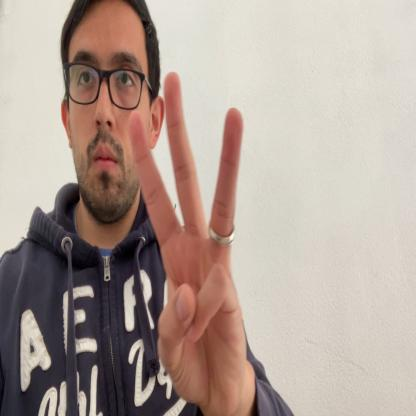W: (129, 73, 246, 416)
